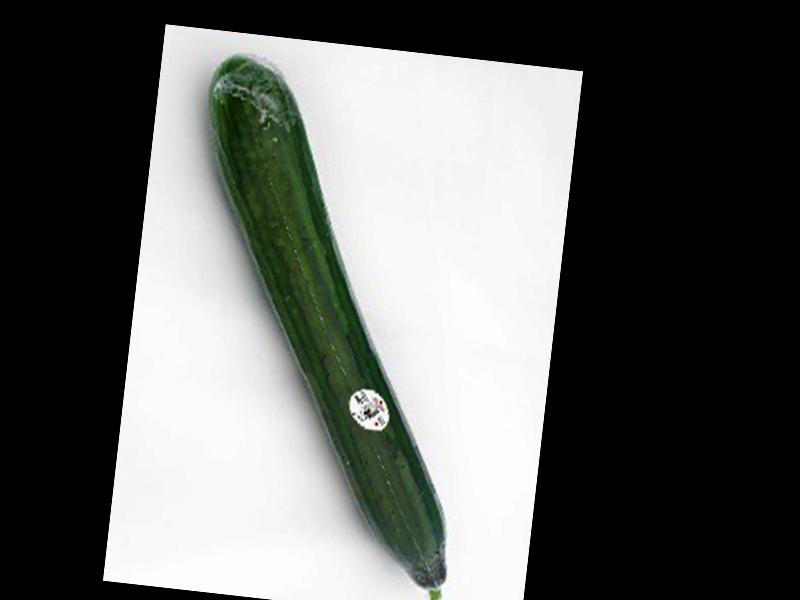Cucumber: (159, 57, 502, 600)
